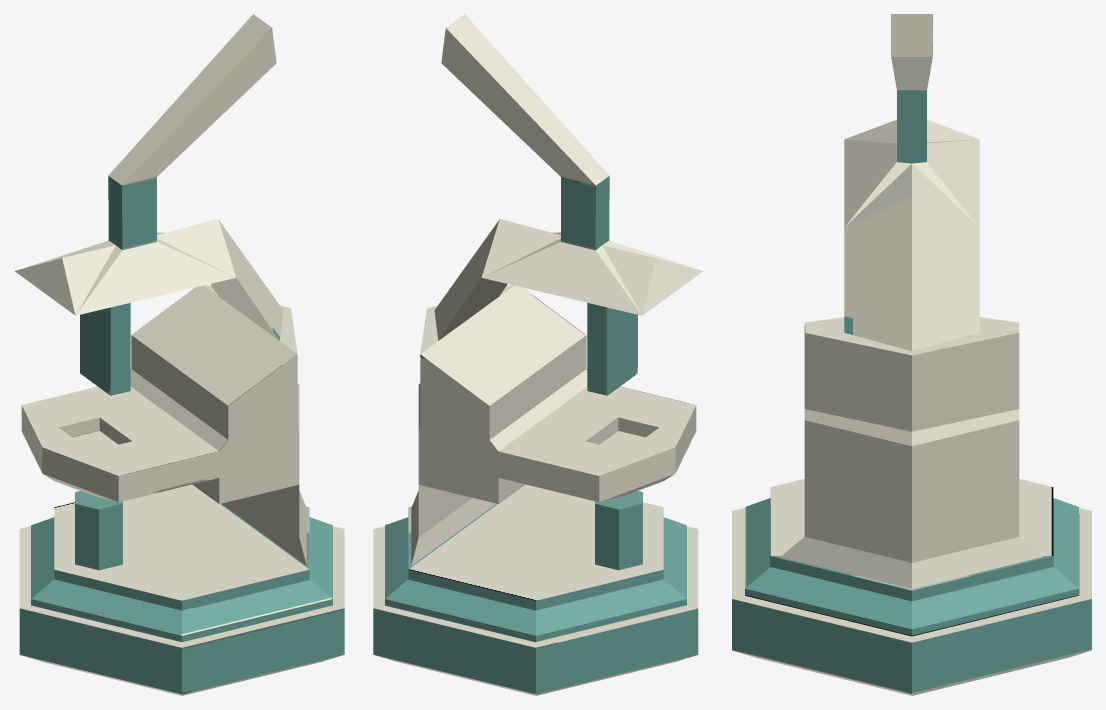
Rendered from microscoop.fbx.
The picture shows the model from 3 angles, left to right: view 1: azimuth 30°, elevation 25°; view 2: azimuth 150°, elevation 25°; view 3: azimuth 270°, elevation 25°; orthographic projection. The views are drawn at different scales.
Parts seen in each view (by area): view 1: pCylinder15; view 2: pCylinder15; view 3: pCylinder15.
Boxes of the visible parts, left/top/right/bottom form: pCylinder15: left=15, top=14, right=344, bottom=695; pCylinder15: left=373, top=14, right=702, bottom=695; pCylinder15: left=732, top=14, right=1091, bottom=695.
Bounding box in the file's own units: 200 × 345 × 173.
1 material, 1 textured.
